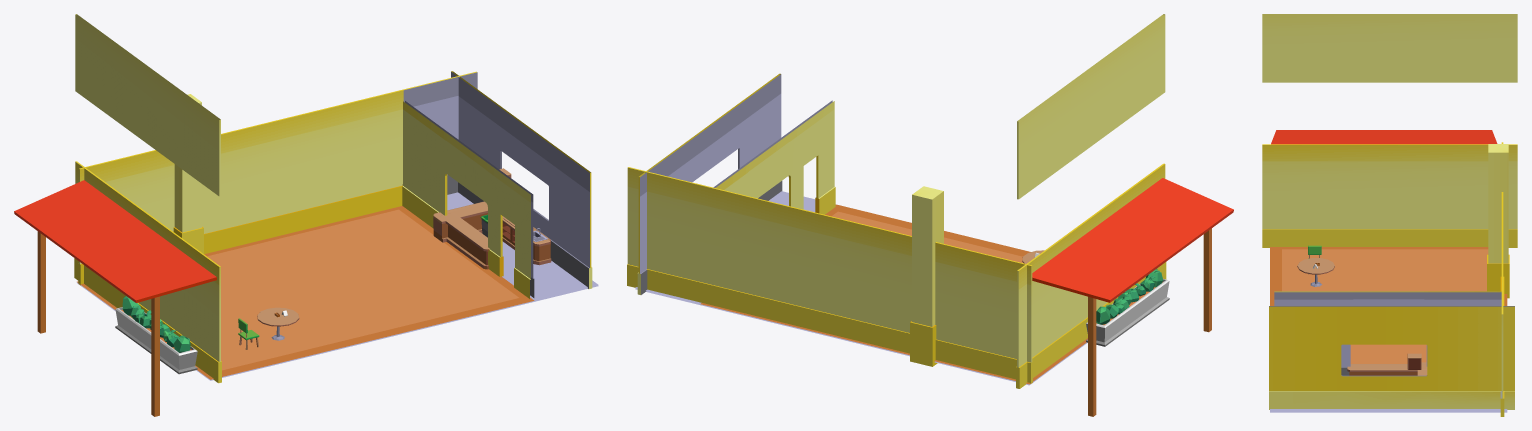
File: Restaurant layout.fbx
3 renders of one model, left to right at view 1: azimuth 30°, elevation 25°; view 2: azimuth 150°, elevation 25°; view 3: azimuth 270°, elevation 25°, orthographic. The views are drawn at different scales.
Parts seen in each view (by area): view 1: Cube, Wall, Tent, Ceiling, Wall.002, Kitchen_Wall, Wall.003, Flowerpot, Cube.001, Kitchen_Counter, Counter, Table; view 2: Wall, Tent, Ceiling, Wall.002, Wall.003, Kitchen_Wall, Cube.001, Cube, Flowerpot; view 3: Wall.003, Wall.002, Ceiling, Cube, Kitchen_Wall, Tent, Cube.001, Counter, Wall, Table, Cupboard.
Part boxes in pixels (<box>): Cube: <box>76,192,598,380</box>; Wall: <box>78,71,477,285</box>; Tent: <box>14,180,216,416</box>; Ceiling: <box>75,14,220,196</box>; Wall.002: <box>451,71,592,288</box>; Kitchen_Wall: <box>402,101,534,298</box>; Wall.003: <box>74,161,221,383</box>; Flowerpot: <box>115,296,197,374</box>; Cube.001: <box>173,94,203,253</box>; Kitchen_Counter: <box>433,201,551,265</box>; Counter: <box>441,213,489,269</box>; Table: <box>257,307,299,340</box>; Wall: <box>627,167,1032,383</box>; Tent: <box>1032,178,1233,416</box>; Ceiling: <box>1017,14,1165,199</box>; Wall.002: <box>637,73,782,294</box>; Wall.003: <box>1016,163,1166,388</box>; Kitchen_Wall: <box>713,100,835,214</box>; Cube.001: <box>910,186,943,366</box>; Cube: <box>635,191,1087,385</box>; Flowerpot: <box>1086,268,1169,346</box>; Wall.003: <box>1262,144,1517,247</box>; Wall.002: <box>1269,306,1514,409</box>; Ceiling: <box>1262,14,1517,82</box>; Cube: <box>1270,247,1507,412</box>; Kitchen_Wall: <box>1274,291,1501,375</box>; Tent: <box>1271,130,1497,144</box>; Cube.001: <box>1487,144,1509,298</box>; Counter: <box>1347,364,1427,375</box>; Wall: <box>1500,142,1504,416</box>; Table: <box>1297,258,1334,286</box>; Cupboard: <box>1407,353,1421,369</box>.
Size of the model in its own units: 47.18 by 27.92 by 25.15.
